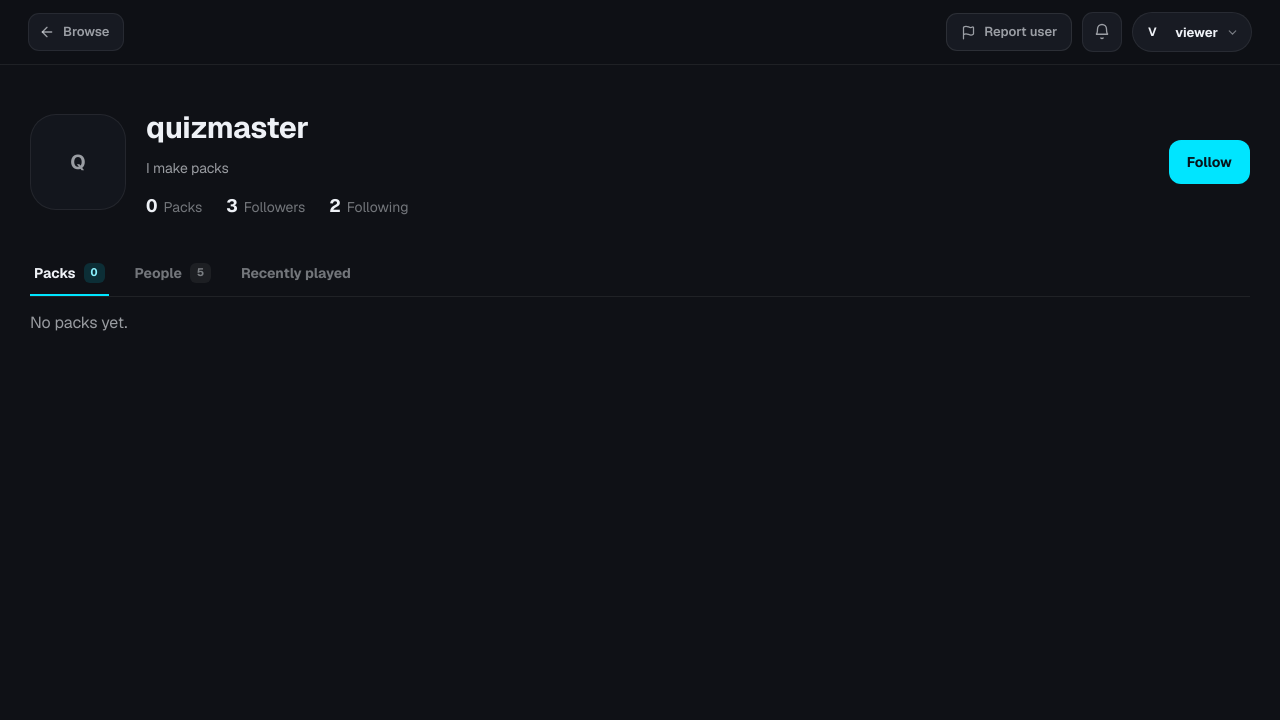
Test: AuthorScreen › jumps to the People tab with Following preselected when the Following stat is clicked, even from an already-open People tab
Expected: the text "quizmaster" is shown, top-left (146, 105), bottom-right (309, 150)
# First jump: Followers.
Click the button "3 Followers".
click(266, 206)  # box top-left (226, 192), bottom-right (305, 220)
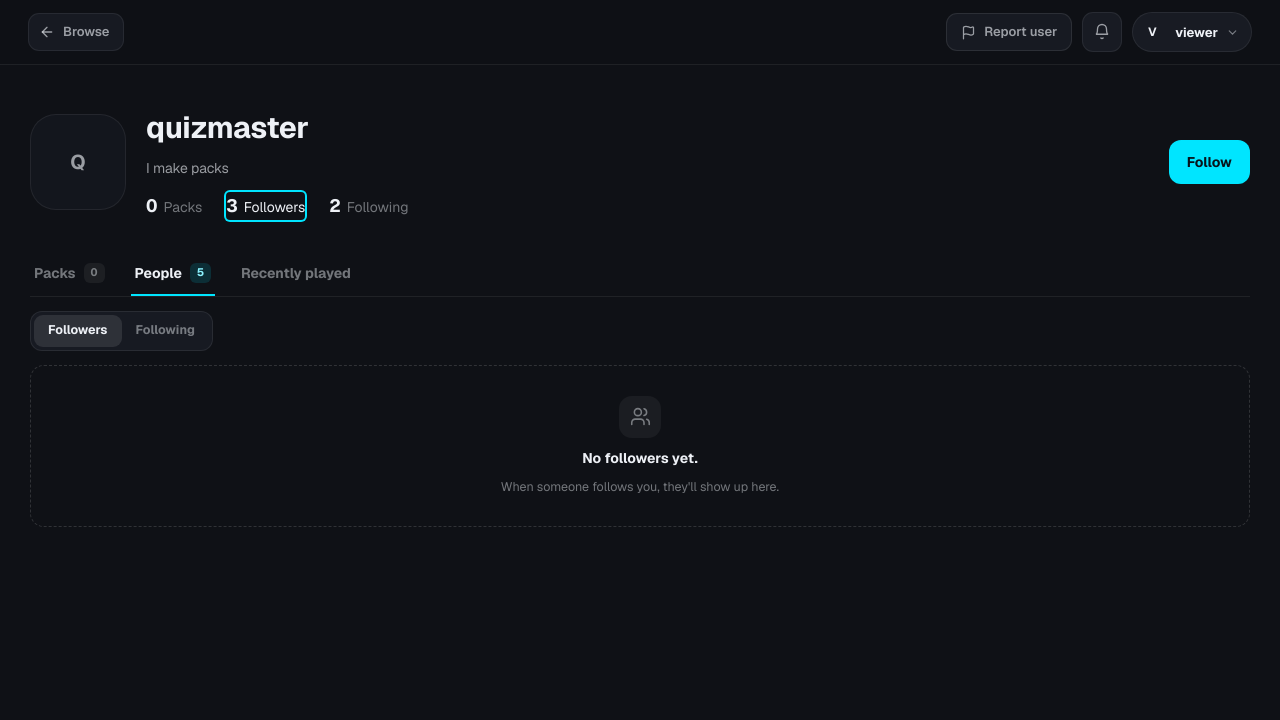
Click the button "2 Following".
click(369, 206)  # box top-left (329, 192), bottom-right (409, 220)
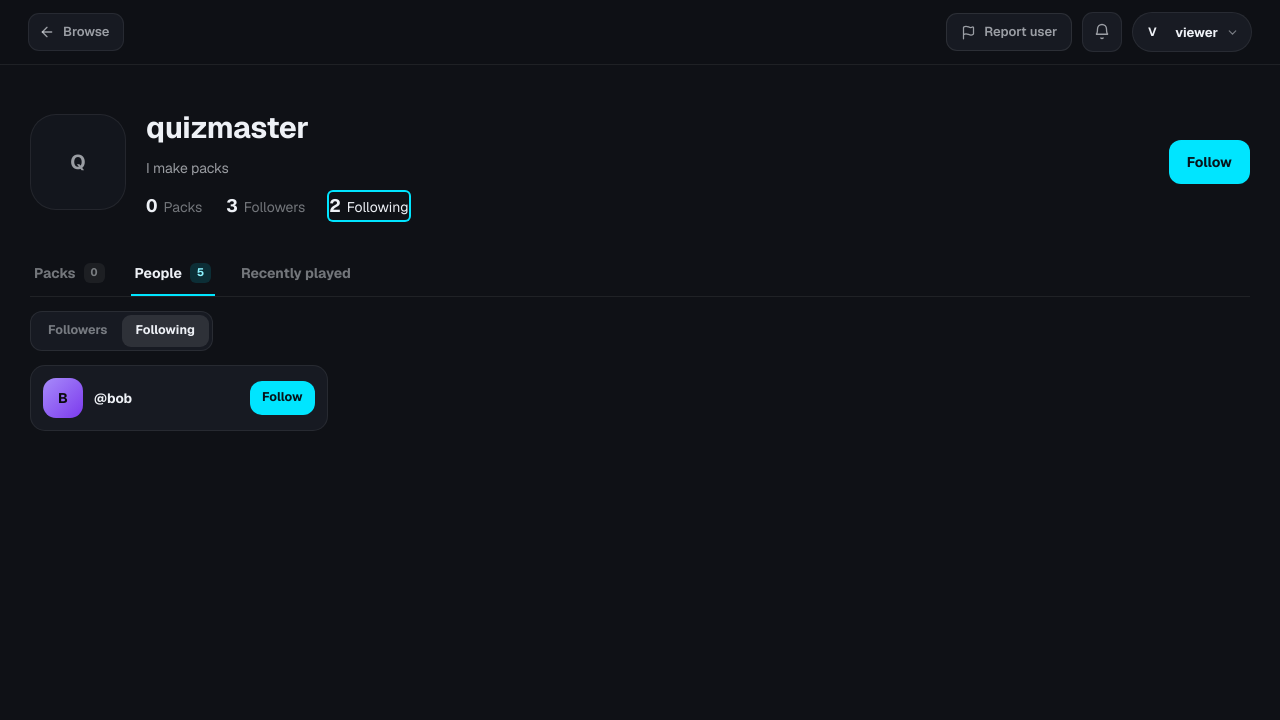
Result: the text "@bob" is shown at top-left (94, 388), bottom-right (132, 408)
